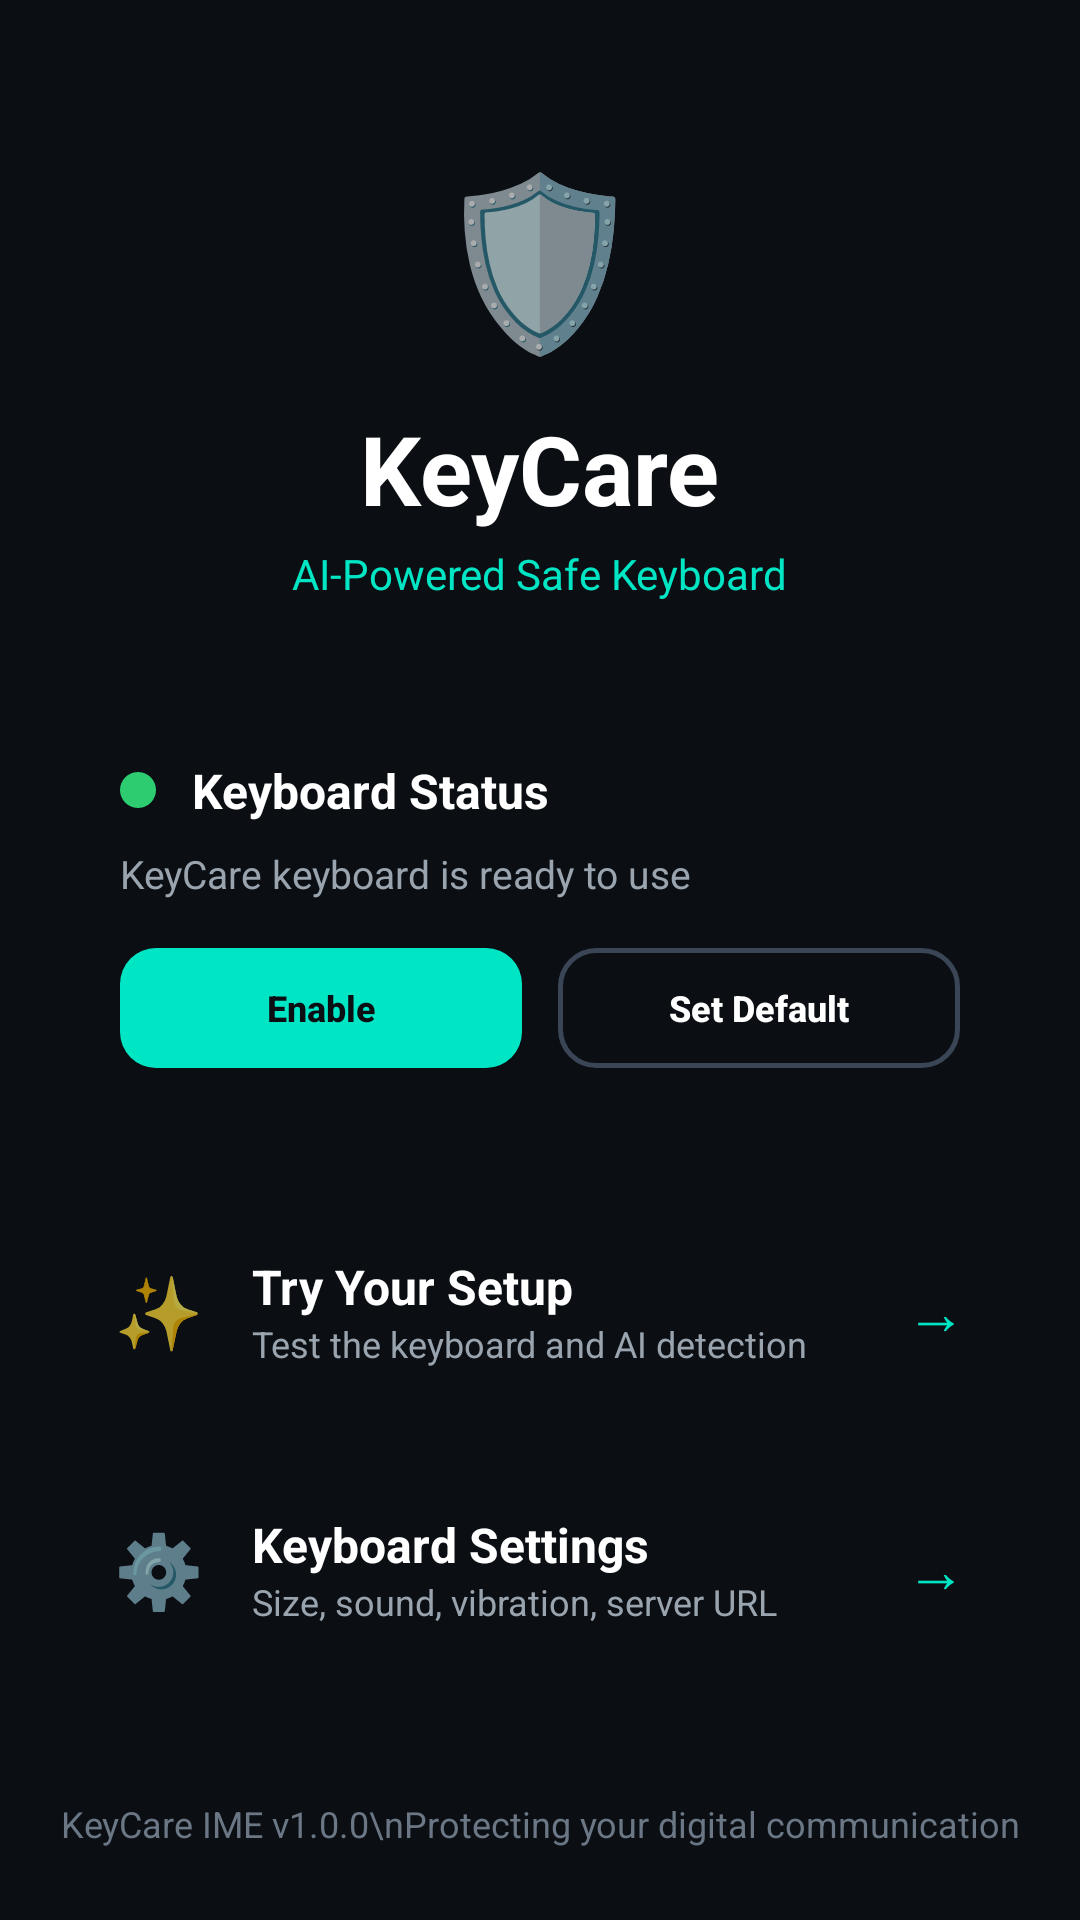

Screen size 1080w x 1920h. Icon name, then its center in pixels as point (x, y):
dot status: point (138, 790)
